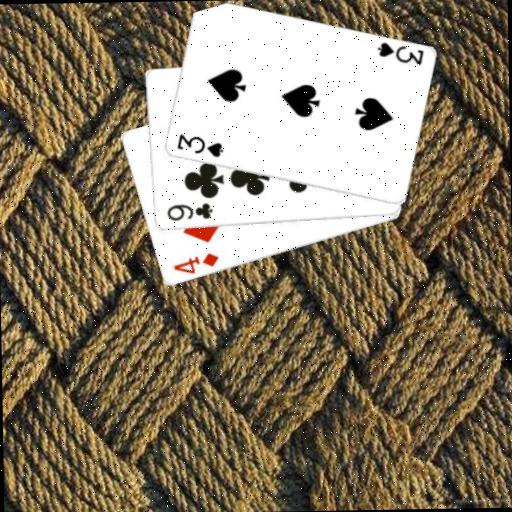3S: (173, 131, 224, 160), (374, 39, 425, 68)
4D: (170, 250, 220, 276)
9C: (163, 200, 214, 224)
